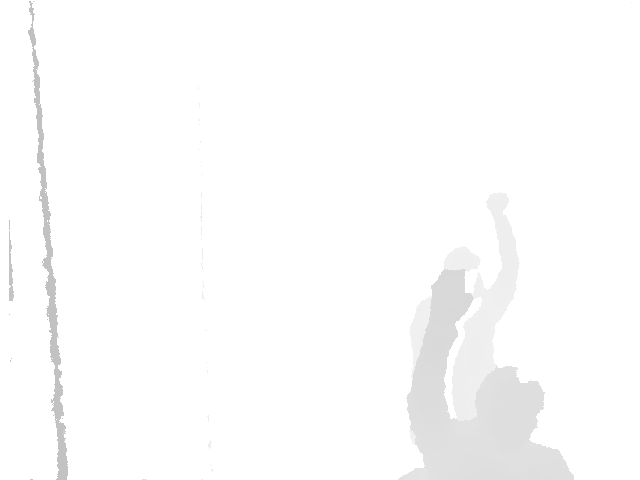hand: (429, 268, 474, 320), (487, 191, 511, 230)
head: (471, 363, 547, 440), (440, 249, 485, 306)
person: (402, 269, 567, 480), (406, 189, 522, 366)
